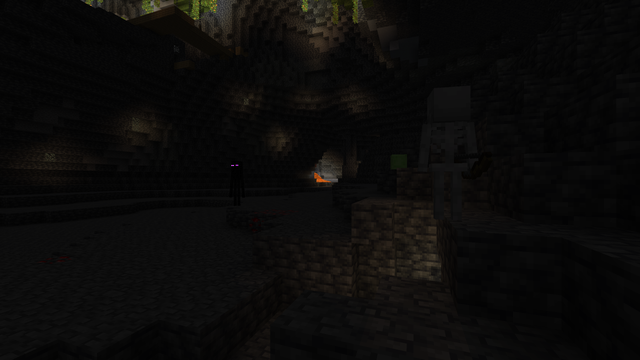endermens: (230, 159, 243, 205)
slimes: (390, 153, 406, 169)
squelettes: (425, 84, 472, 223)
